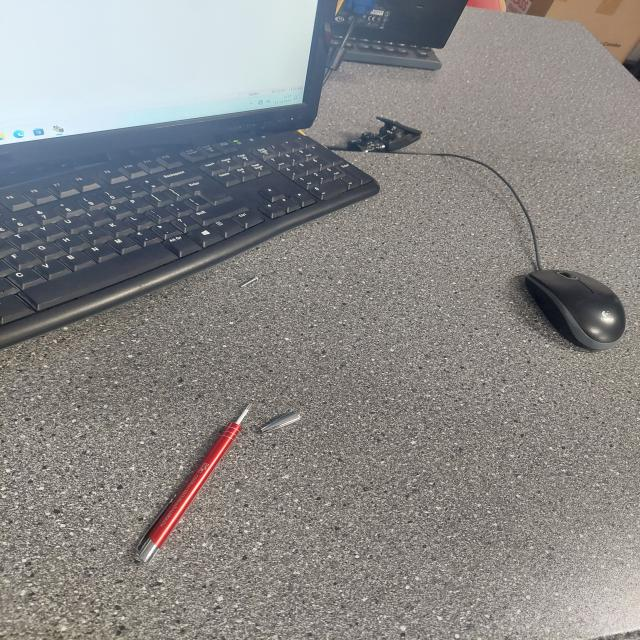mysz: (502, 263, 639, 355)
